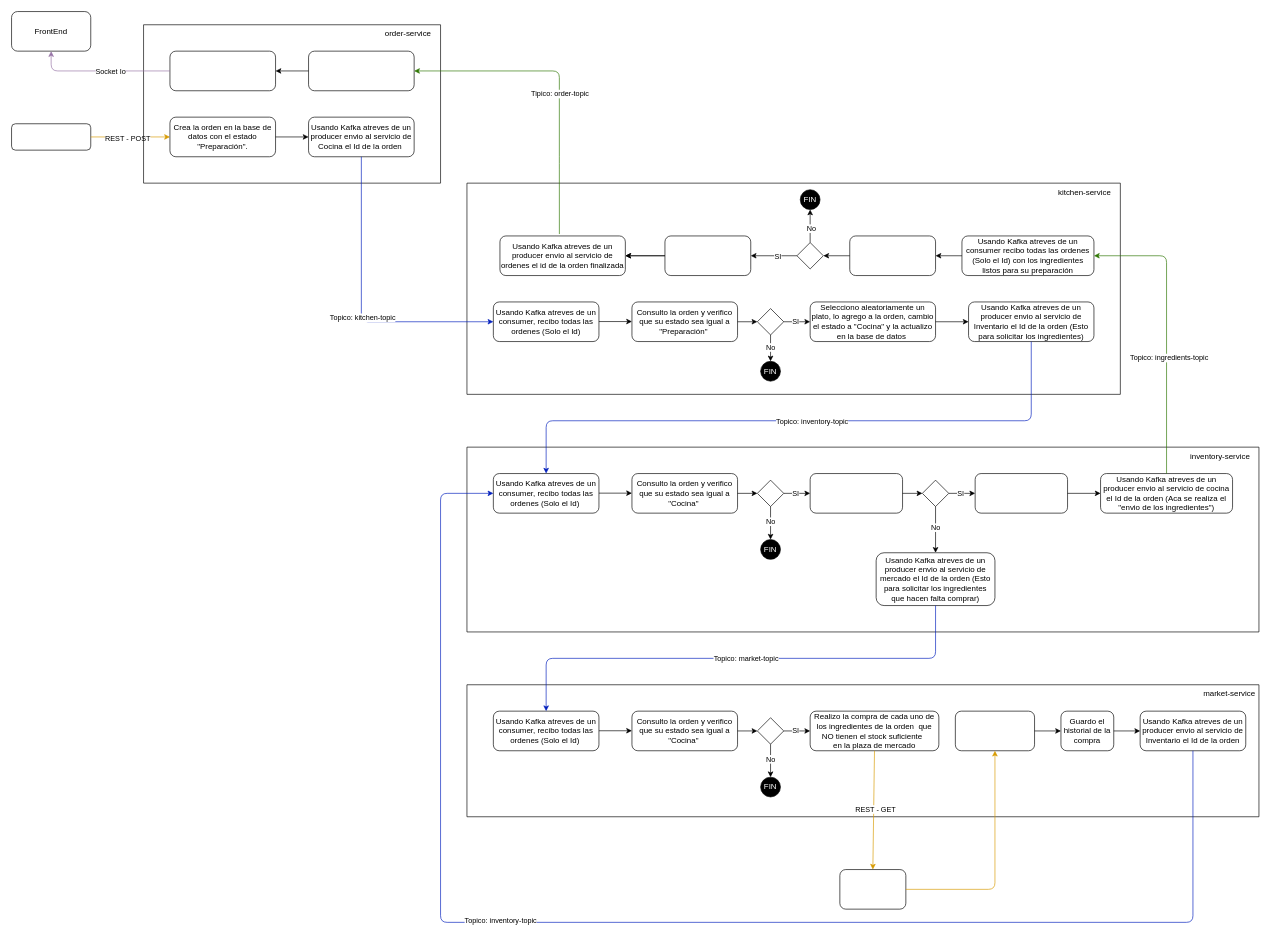
This 1271x939 diagram has some shape labels left out. The shapes that lost their labels are listed below. From the top down, each one's centre as x and y in pixels, then its label:
(222,70): Envio señal al front para que actualice el tablero de estados
(361,70): Usando Kafka atreves de un consumer, recibo todas las ordenes finalizadas
(51,136): Solicitar Orden
(707,255): Se finaliza la preparación del plato
(892,255): Consulto la orden y verifico que su estado sea igual a " finalizada "
(856,493): Verifico si todos los ingredientes de la orden están disponibles
(1021,493): Reduzco el stock de los ingredientes asociados que se va preparar
(995,730): Actualizo el stock de cada uno de los ingredientes
(872,889): Plaza de mercado
